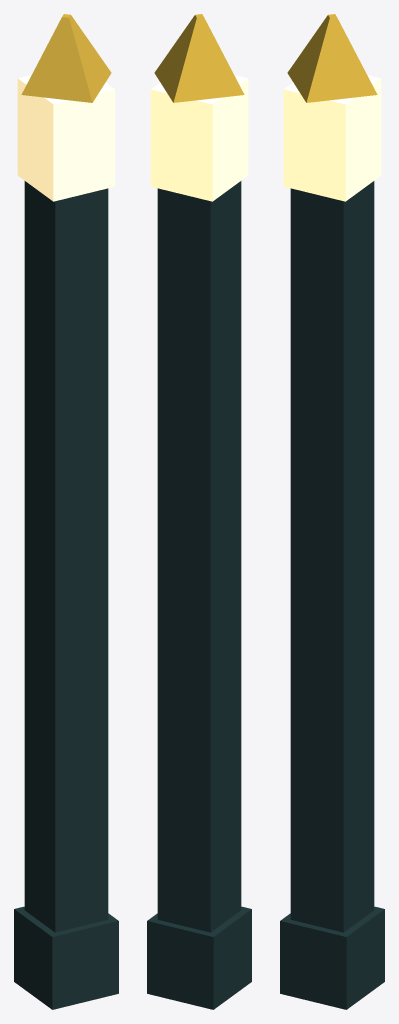
Rendered from bars_post_L.fbx.
The picture shows the model from 3 angles, left to right: view 1: azimuth 30°, elevation 25°; view 2: azimuth 150°, elevation 25°; view 3: azimuth 330°, elevation 25°; orthographic projection.
Parts seen in each view (by area): view 1: bars_post_L; view 2: bars_post_L; view 3: bars_post_L.
Part boxes in pixels (bbox=[...]): bars_post_L: bbox=[14, 14, 118, 1009]; bars_post_L: bbox=[147, 14, 251, 1009]; bars_post_L: bbox=[280, 14, 384, 1009].
Bounding box in the file's own units: 0.35 × 3.6 × 0.35.
